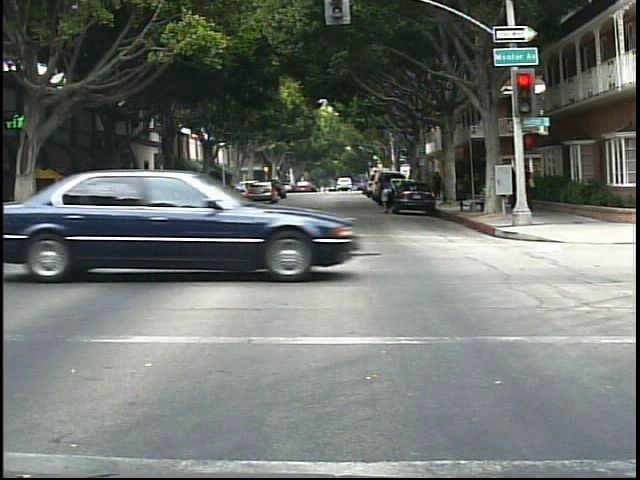person: (153, 172, 192, 241), (372, 172, 398, 217), (433, 169, 446, 199)
